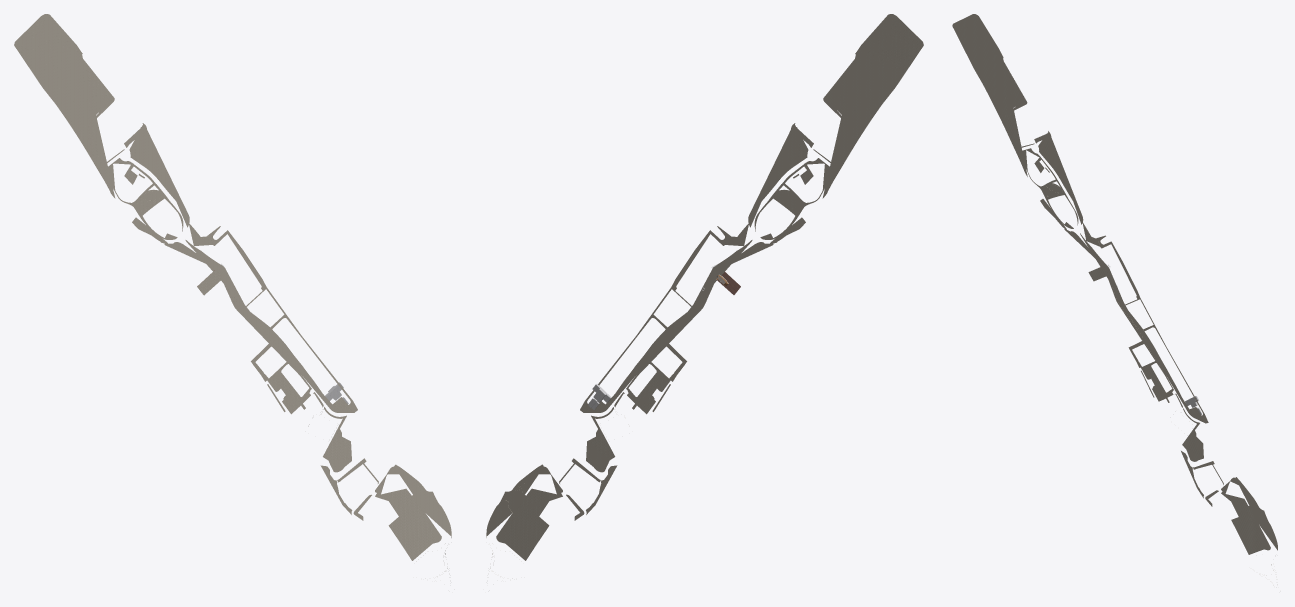
File: Church.fbx
3 views of the same model, side by side, from view 1: azimuth 30°, elevation 25°; view 2: azimuth 150°, elevation 25°; view 3: azimuth 330°, elevation 25° (orthographic). The views are drawn at different scales.
Parts seen in each view (by area): view 1: G_1700_1_1; view 2: G_1700_1_1; view 3: G_1700_1_1.
Boxes of the visible parts, x1,y1,x2,y2 form: G_1700_1_1: (14,14,451,578); G_1700_1_1: (486,14,923,578); G_1700_1_1: (952,14,1277,585).
Bounding box in the file's own units: 15261 × 268 × 22432.
11 materials, 7 textured.
